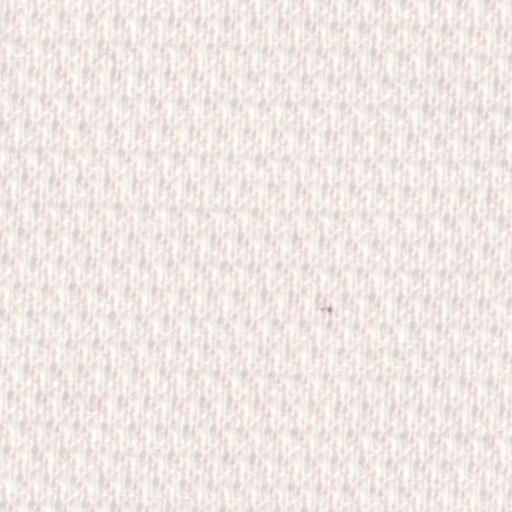WuZi: (308, 286, 356, 330)
